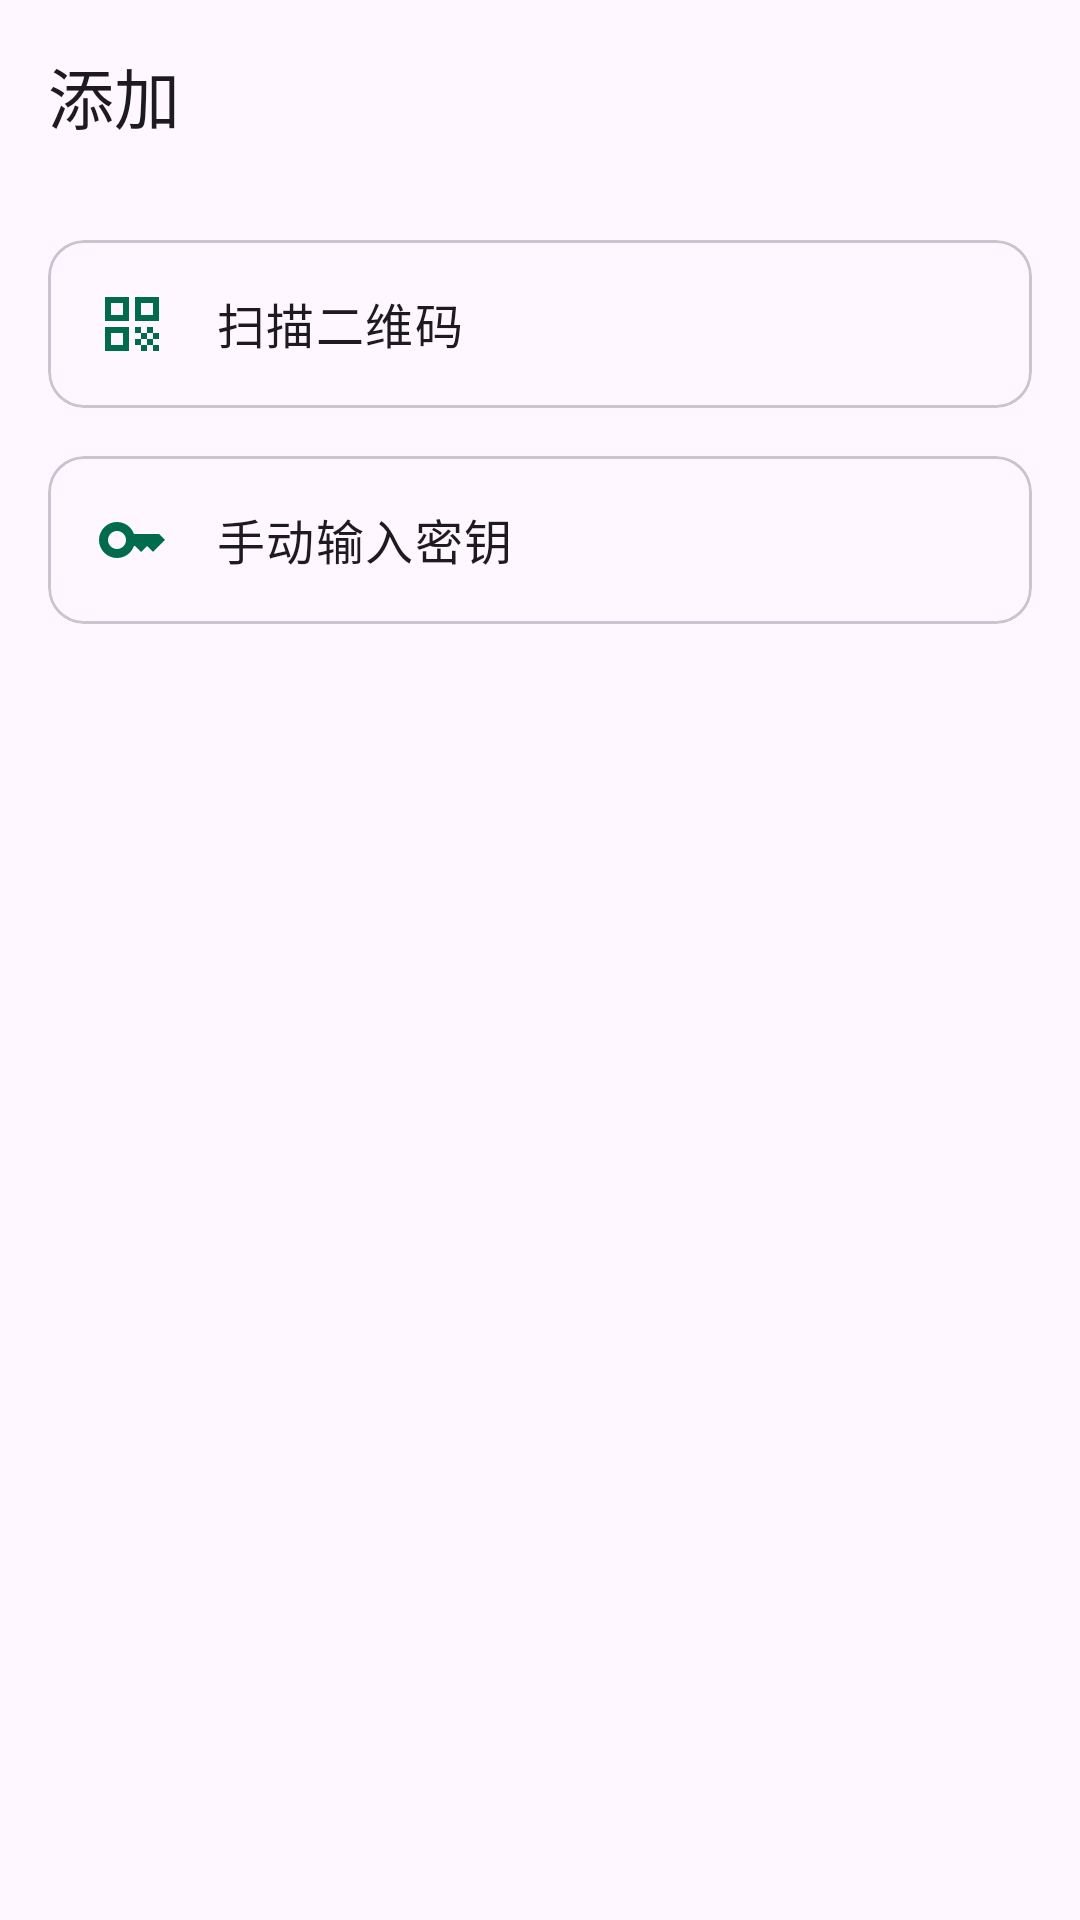

Named icons in this screenshot (1080px x 1920px) and their centers, [x,y]:
key: [132,540]
qr code: [132,324]
